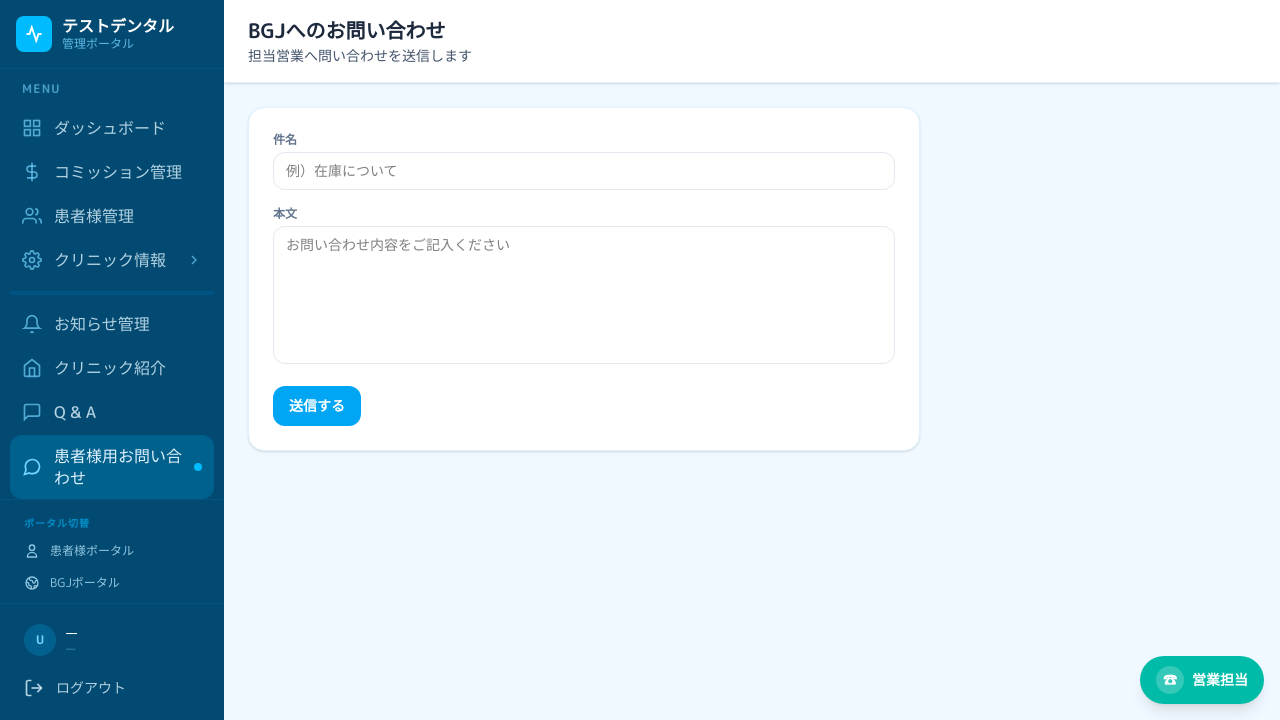
Test: AdminInquiryPage › 送信失敗時はエラーメッセージをトースト表示する
The width and height of the screenshot is (1280, 720).
In the field with placeholder "例）在庫について": (584, 171) 273,152 -> 895,190, type "件名"
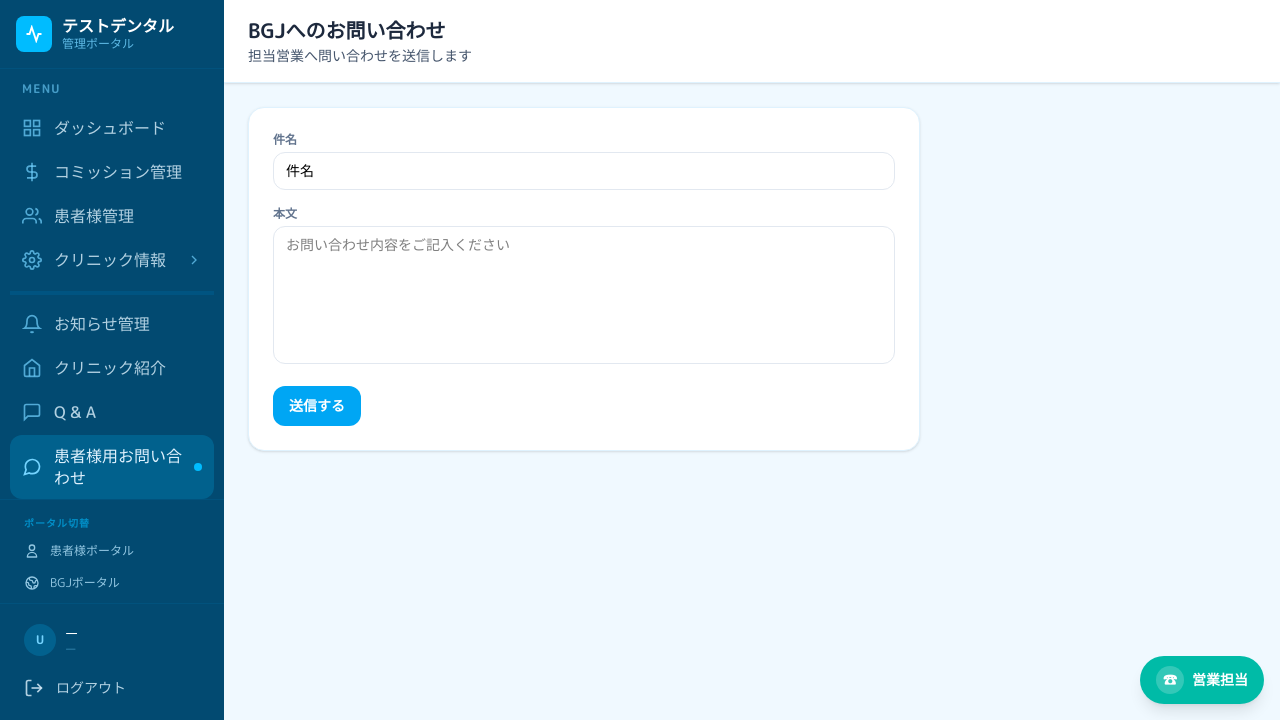
In the text box with placeholder "お問い合わせ内容をご記入ください": (584, 295) 273,226 -> 895,364, type "本文"
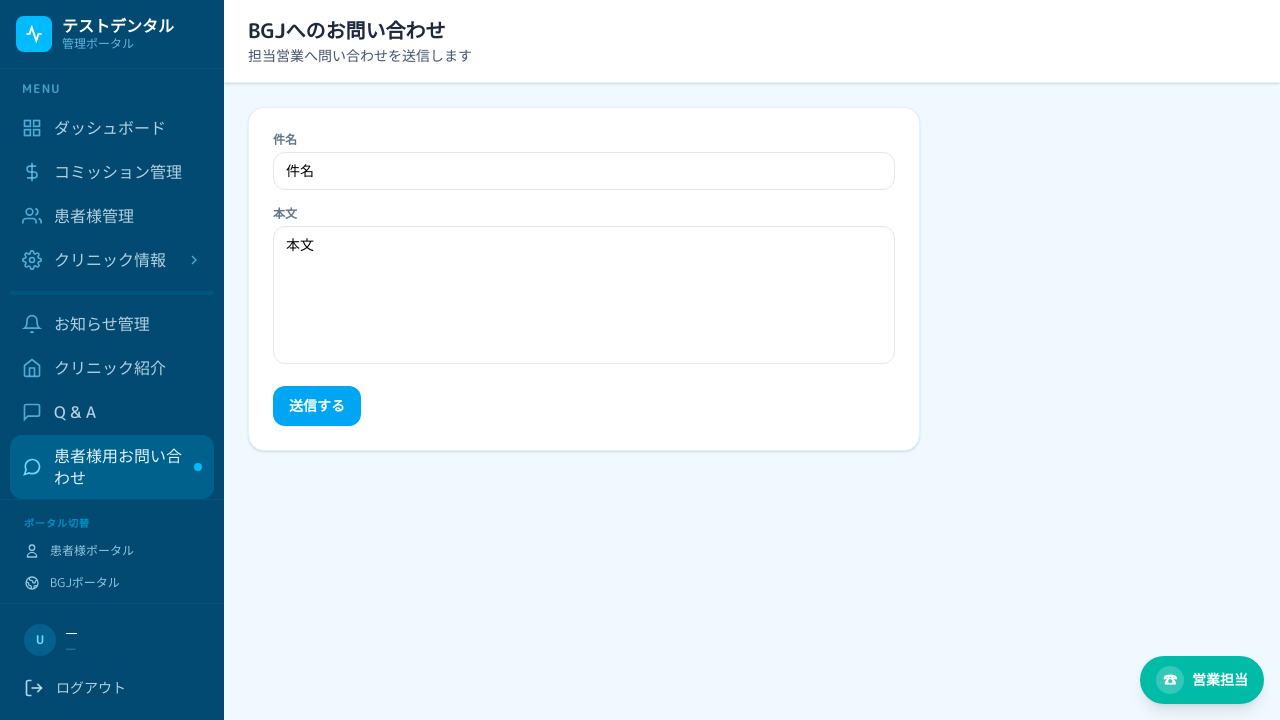
Click the button "送信する": (317, 406) 273,386 -> 361,426
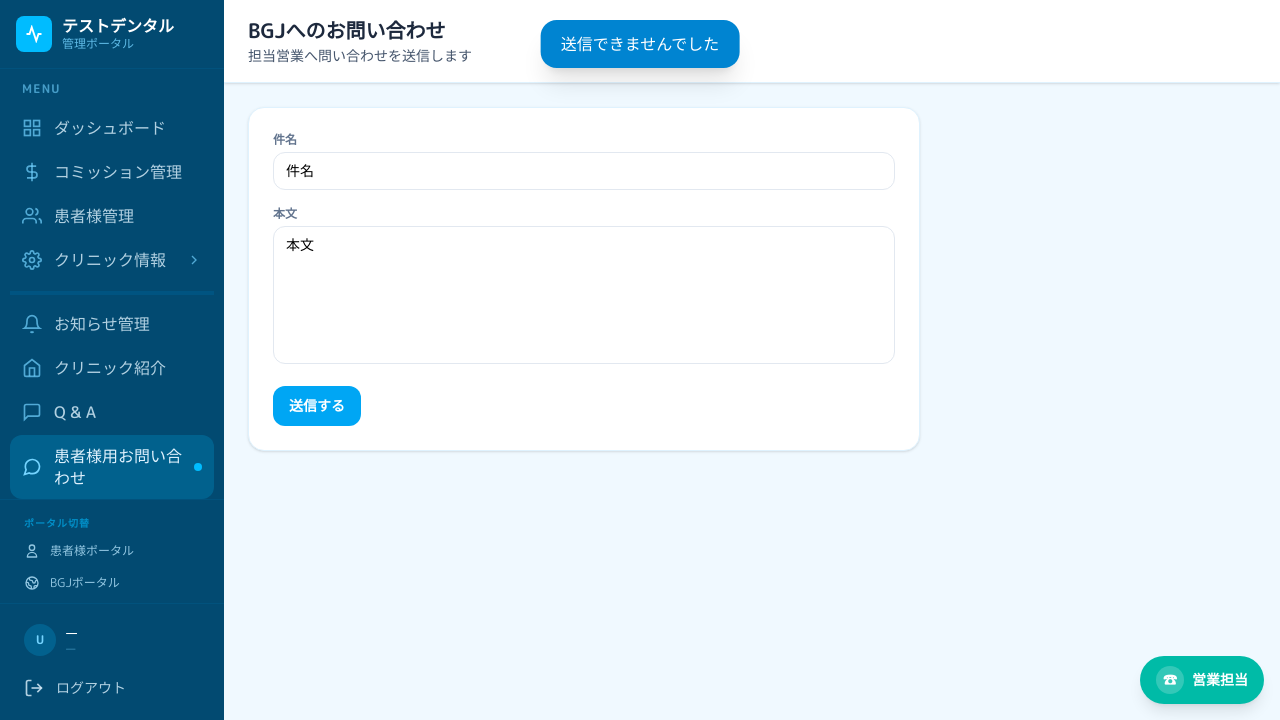
Expected: the text "送信できませんでした" is shown, 541,20 -> 739,68
